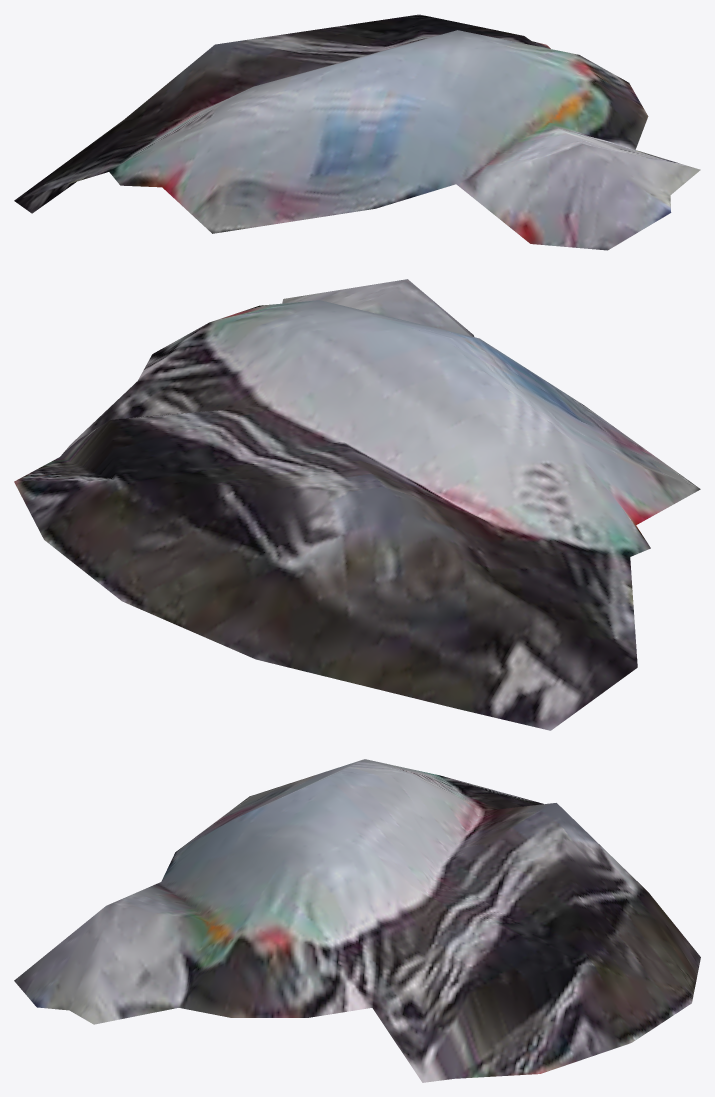
The model's file is Garbage1C.fbx.
The picture shows the model from 3 angles, top to bottom: view 1: azimuth 30°, elevation 25°; view 2: azimuth 150°, elevation 25°; view 3: azimuth 270°, elevation 25°; orthographic projection. The views are drawn at different scales.
Parts seen in each view (by area): view 1: polySurface850; view 2: polySurface850; view 3: polySurface850.
Boxes of the visible parts, x1,y1,x2,y2 form: polySurface850: [14, 14, 700, 250]; polySurface850: [14, 279, 700, 730]; polySurface850: [14, 759, 700, 1082].
Size of the model in its own units: 0.7616 by 0.263 by 0.7279.
